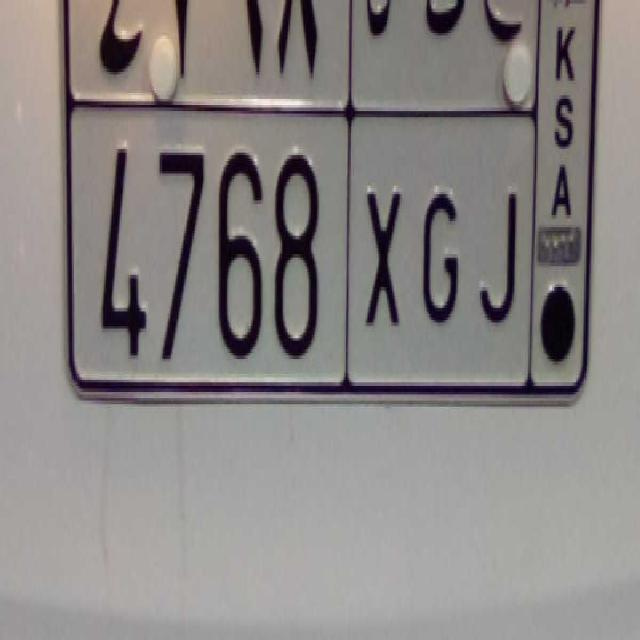license_plate: (72, 98, 533, 397)
